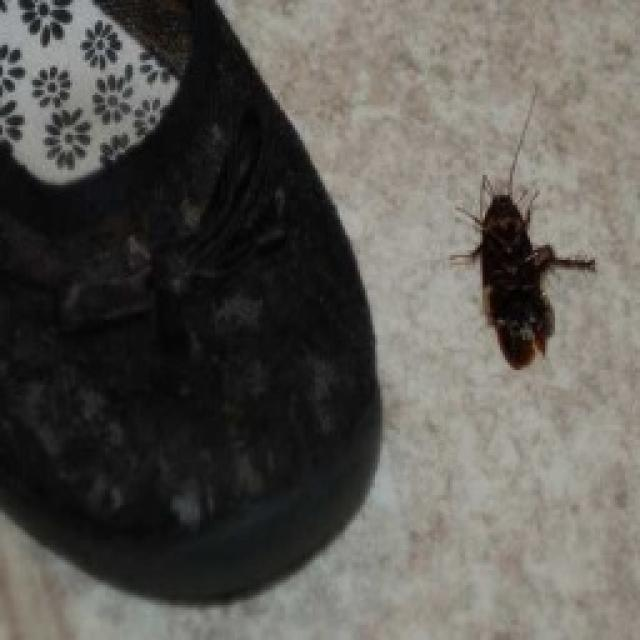cockroach: (441, 138, 579, 389)
